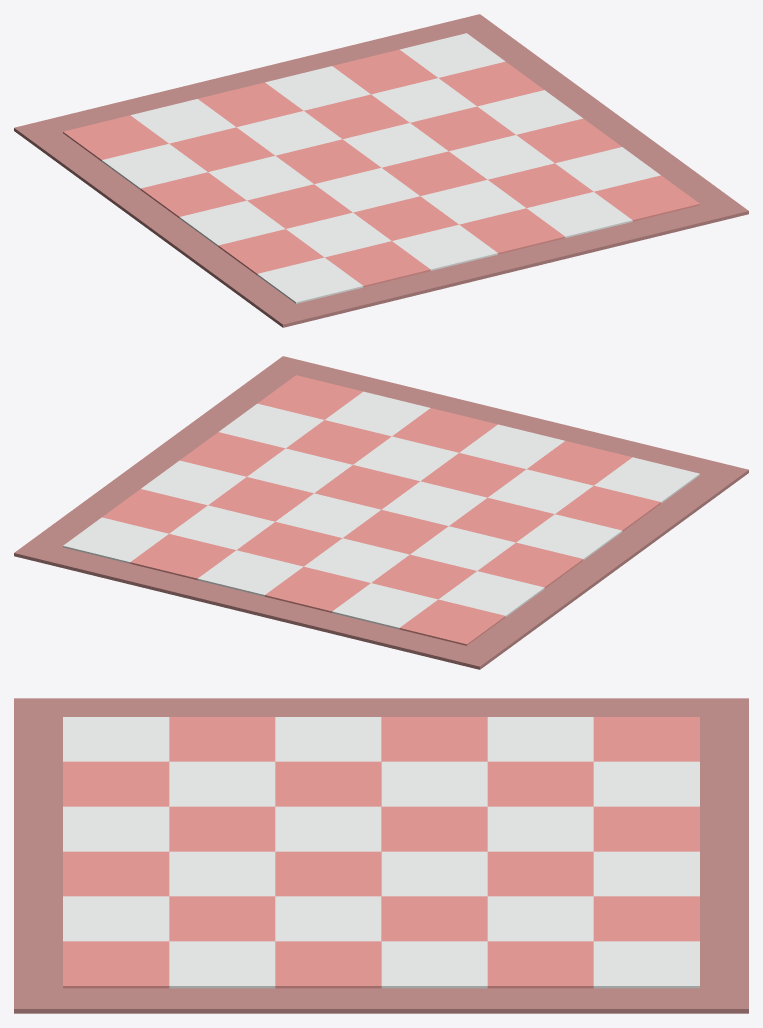
Rendered from rugChecker.glb.
The picture shows the model from 3 angles, top to bottom: view 1: azimuth 30°, elevation 25°; view 2: azimuth 150°, elevation 25°; view 3: azimuth 270°, elevation 25°; orthographic projection. The views are drawn at different scales.
Parts seen in each view (by area): view 1: rugChecker; view 2: rugChecker; view 3: rugChecker.
Boxes of the visible parts, <box> form: rugChecker: <box>14,14,748,327</box>; rugChecker: <box>14,356,748,669</box>; rugChecker: <box>14,698,748,1013</box>.
Size of the model in its own units: 0.9 by 0.009 by 0.9.
